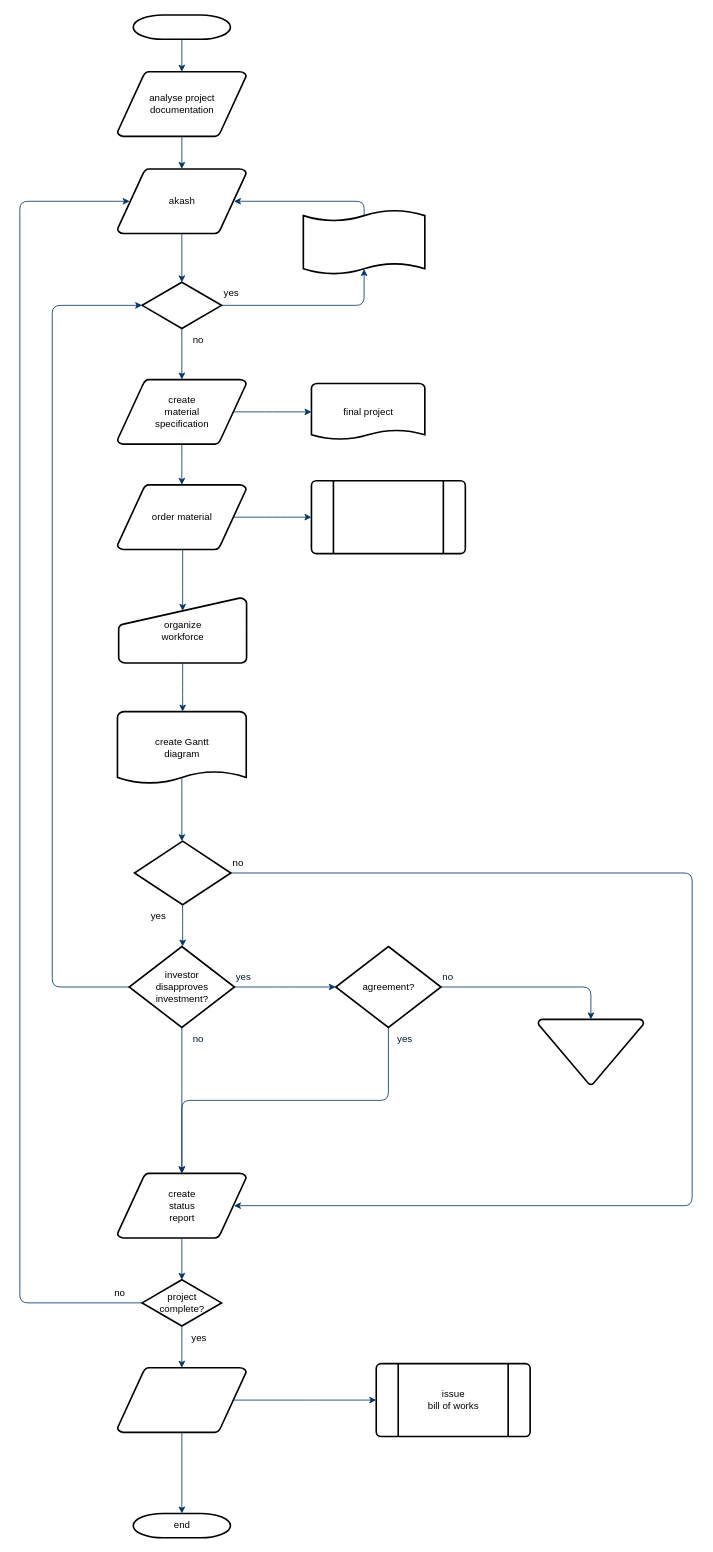
Some shapes in this 713 by 1552 pixel diagram are drawn without their labels. Each missing label, with the centre of its shape:
create final report: point 181,1399
iron out obscurities with investor: point 363,241
late project changes?: point 182,872
material balance: point 388,517
obscurities?: point 181,305
start: point 181,27
terminate contract: point 590,1051
